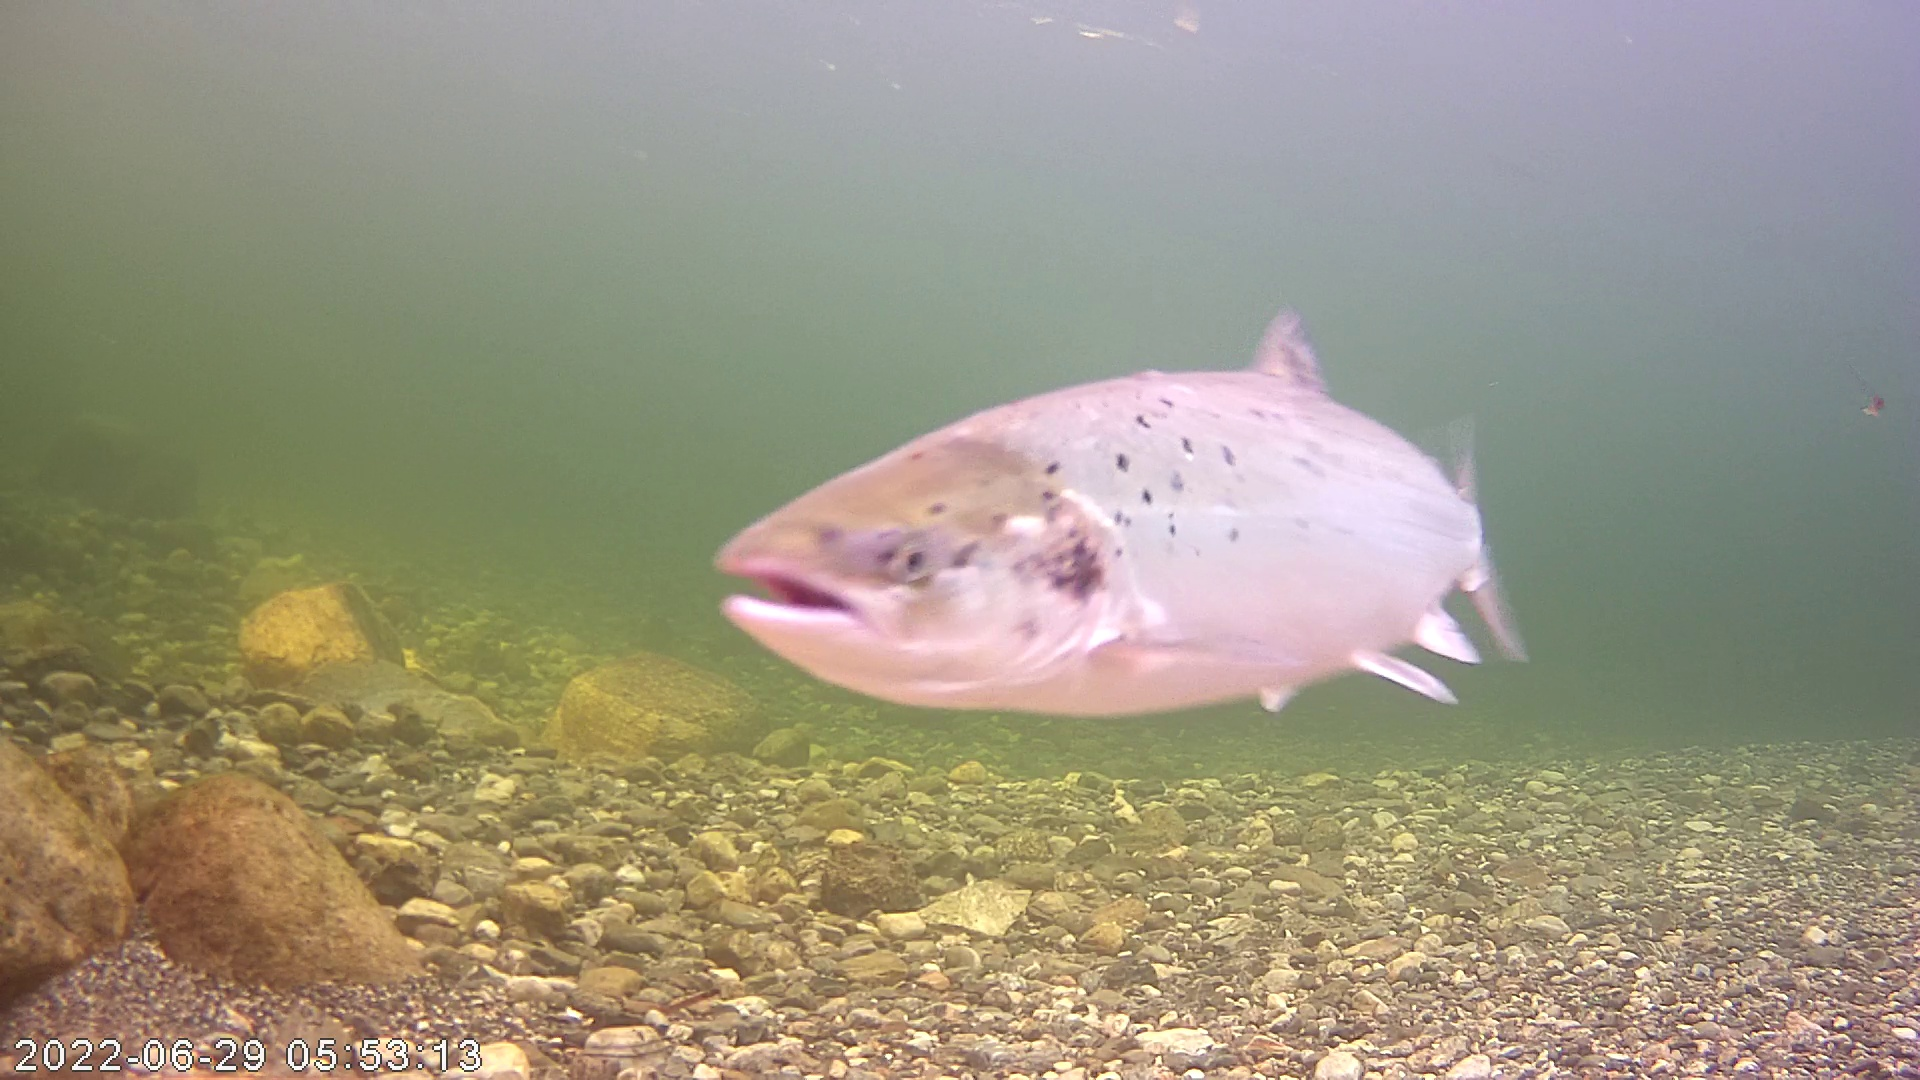salmon: (699, 236, 1501, 735)
